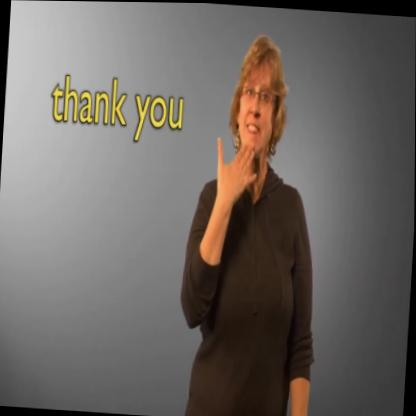ThankYou: (208, 26, 297, 233)
